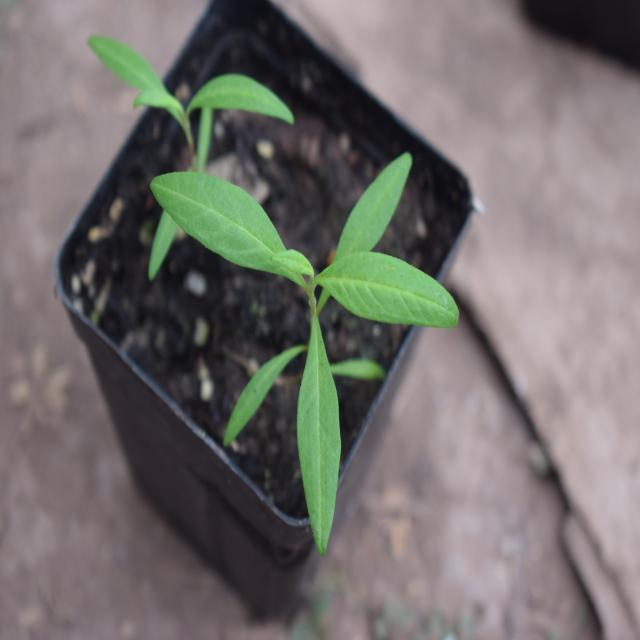white_smart_weed: (148, 152, 466, 536)
